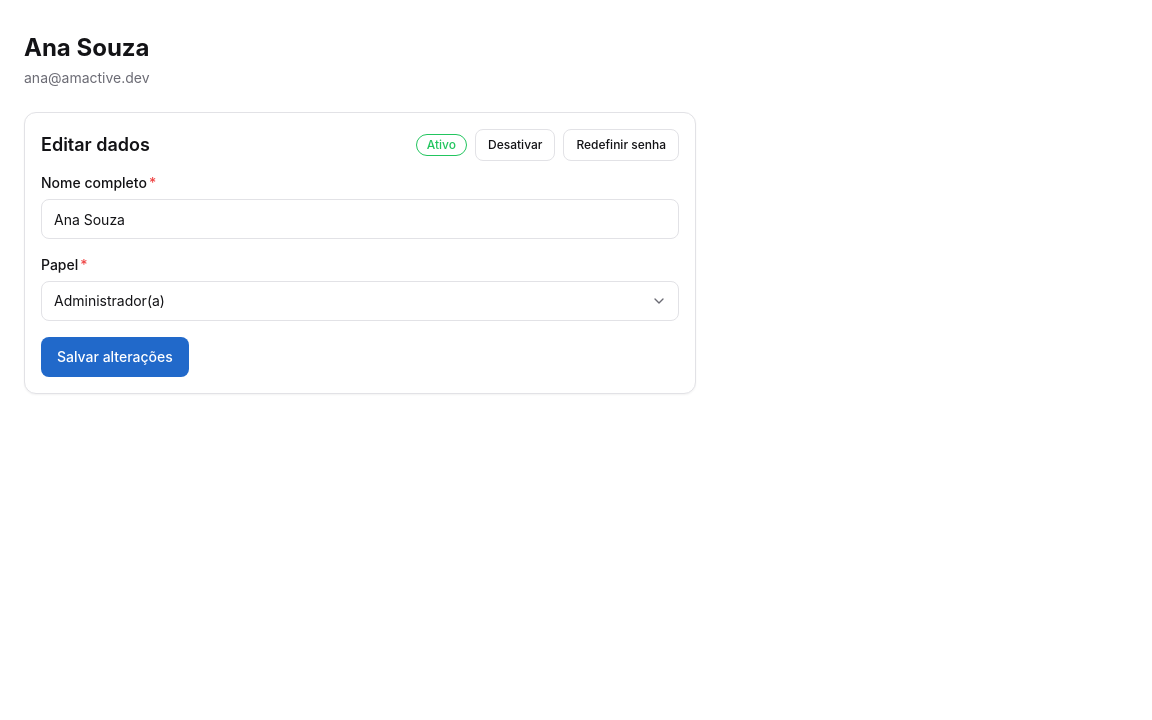
Test case: UsuarioDetalhePage › abre o modal de redefinir senha e deixa claro que é um reset administrativo imediato
Click the button "Redefinir senha" at (621, 145), box [563,129,679,161]
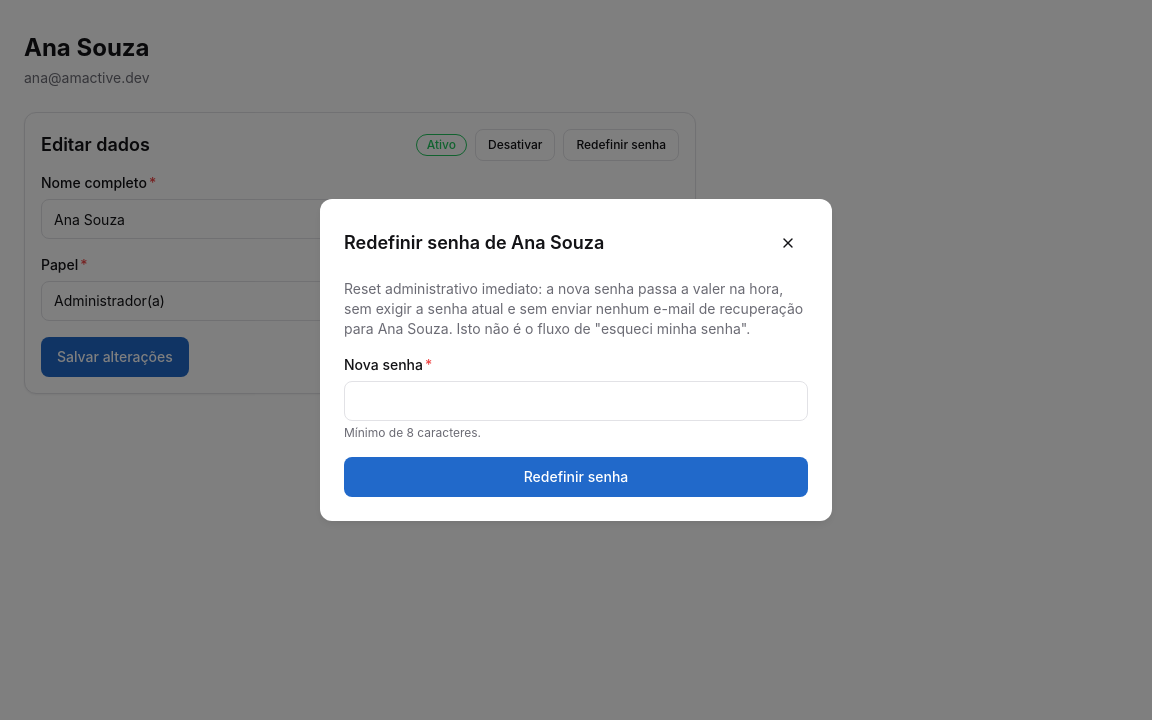
Check: the dialog "Redefinir senha de Ana Souza" is shown, box [320,199,832,521]
Check: the text "Reset administrativo imediato" is shown, box [344,280,803,337]
Check: the text "não é o fluxo de \"esqueci minha senha\"" is shown, box [449,320,750,337]
